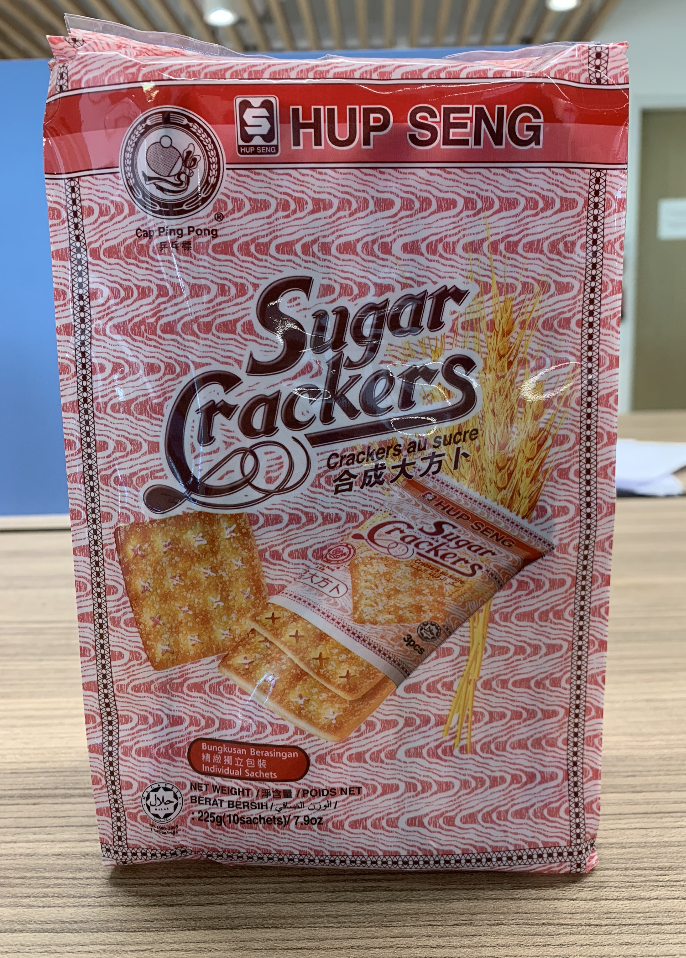crackers_150g: (103, 82, 591, 843)
